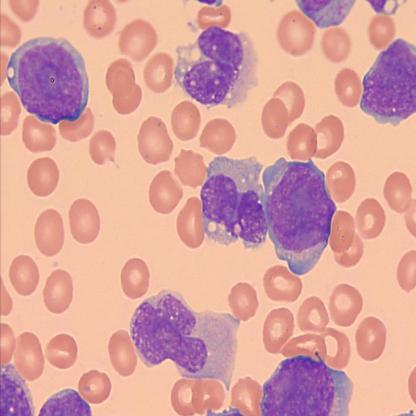Blast: (129, 285, 243, 392), (262, 154, 338, 278), (4, 33, 91, 126), (172, 24, 262, 113), (198, 149, 271, 249)
